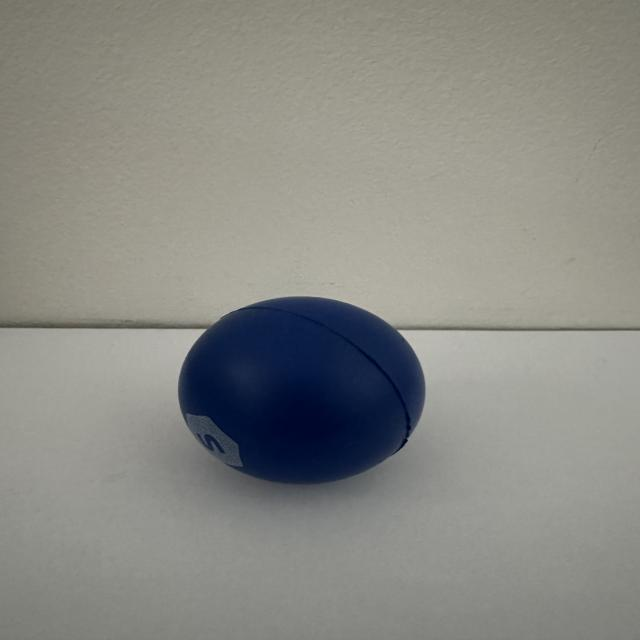blue_ball: (177, 294, 436, 491)
